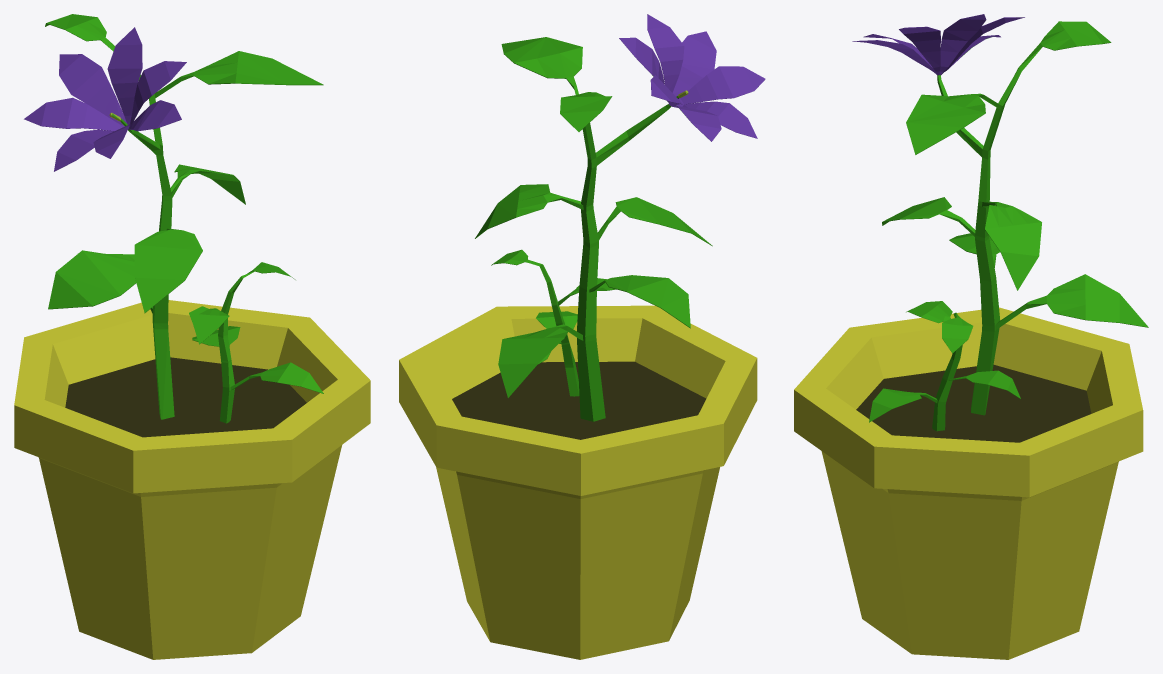
File: Planta Pintada2.fbx
3 views of the same model, side by side, from view 1: azimuth 30°, elevation 25°; view 2: azimuth 150°, elevation 25°; view 3: azimuth 270°, elevation 25° (orthographic). The views are drawn at different scales.
Visible parts, largest first — view 1: Cylinder001, Box001, Box002; view 2: Cylinder001, Box001, Box002; view 3: Cylinder001, Box001, Box002.
Part boxes in pixels (box(x1,y1,x2,y2)): Cylinder001: box(14, 300, 370, 659); Box001: box(24, 14, 323, 419); Box002: box(189, 262, 323, 423); Cylinder001: box(399, 305, 757, 659); Box001: box(475, 14, 765, 421); Box002: box(491, 249, 616, 396); Cylinder001: box(794, 307, 1143, 659); Box001: box(852, 14, 1148, 415); Box002: box(869, 301, 1020, 431).
Bounding box in the file's own units: 81.32 × 148 × 82.21.
